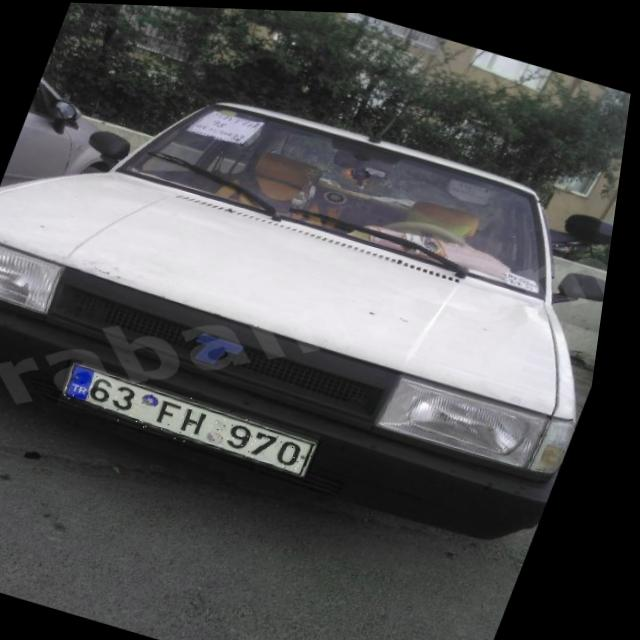license_plate: (60, 361, 338, 475)
